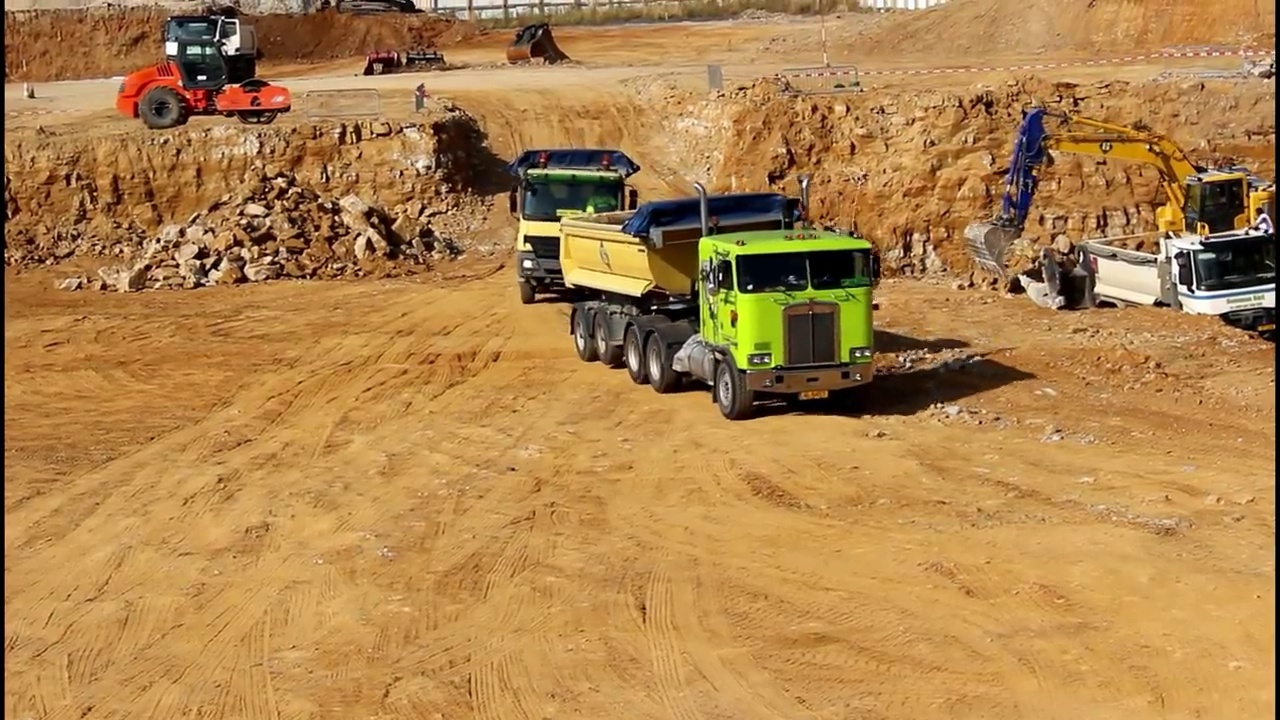compactor: (116, 37, 294, 133)
excavator: (961, 99, 1280, 301)
truck: (552, 174, 885, 426), (1073, 223, 1280, 371), (506, 143, 646, 313), (157, 10, 273, 95)
worker: (1248, 203, 1278, 245)
